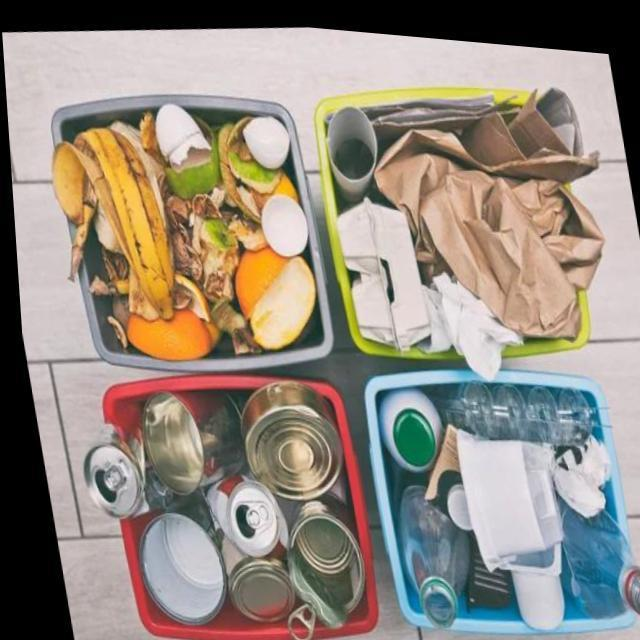Garbage: (315, 78, 601, 368), (48, 94, 329, 366), (373, 374, 640, 624), (78, 375, 337, 622), (279, 487, 357, 621)
Glass_bottle: (392, 477, 462, 620)
Metal: (77, 376, 357, 633)
Plastic: (452, 422, 557, 619), (460, 524, 504, 598)
Plastic_bottle: (553, 490, 640, 608), (432, 372, 587, 434), (373, 380, 437, 464)
contaminated_waste: (372, 78, 601, 327), (334, 192, 426, 342), (373, 380, 437, 464)
